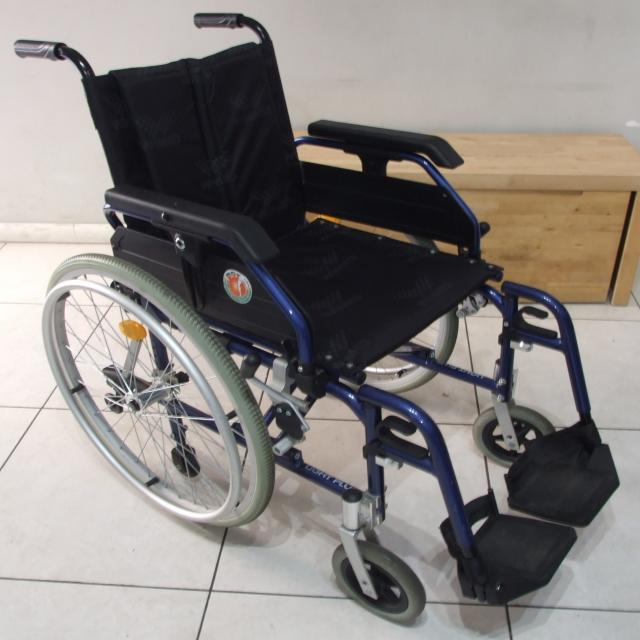wheelchair: (7, 9, 640, 626)
